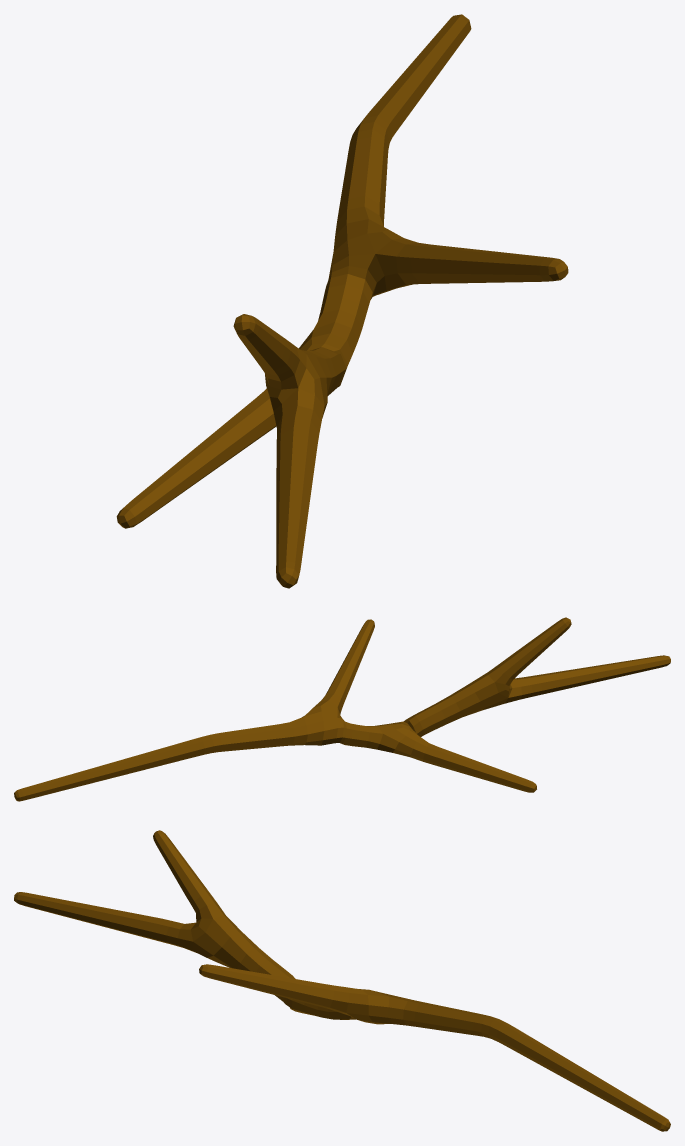
The model's file is Branch.fbx.
3 renders of one model, top to bottom at view 1: azimuth 30°, elevation 25°; view 2: azimuth 150°, elevation 25°; view 3: azimuth 270°, elevation 25°, orthographic. The views are drawn at different scales.
Visible parts, largest first — view 1: Plane; view 2: Plane; view 3: Plane.
Boxes of the visible parts, left/top/right/bottom form: Plane: left=116, top=14, right=568, bottom=588; Plane: left=14, top=617, right=670, bottom=801; Plane: left=14, top=830, right=670, bottom=1131.
Bounding box in the file's own units: 142 × 49.4 × 187.
